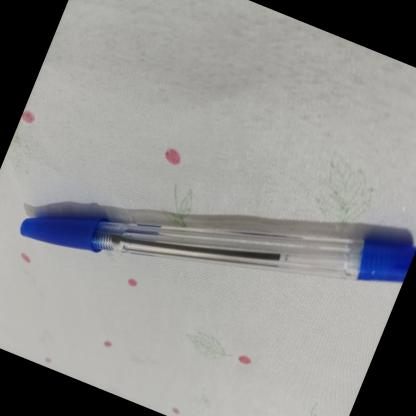pencil: (22, 215, 412, 283)
